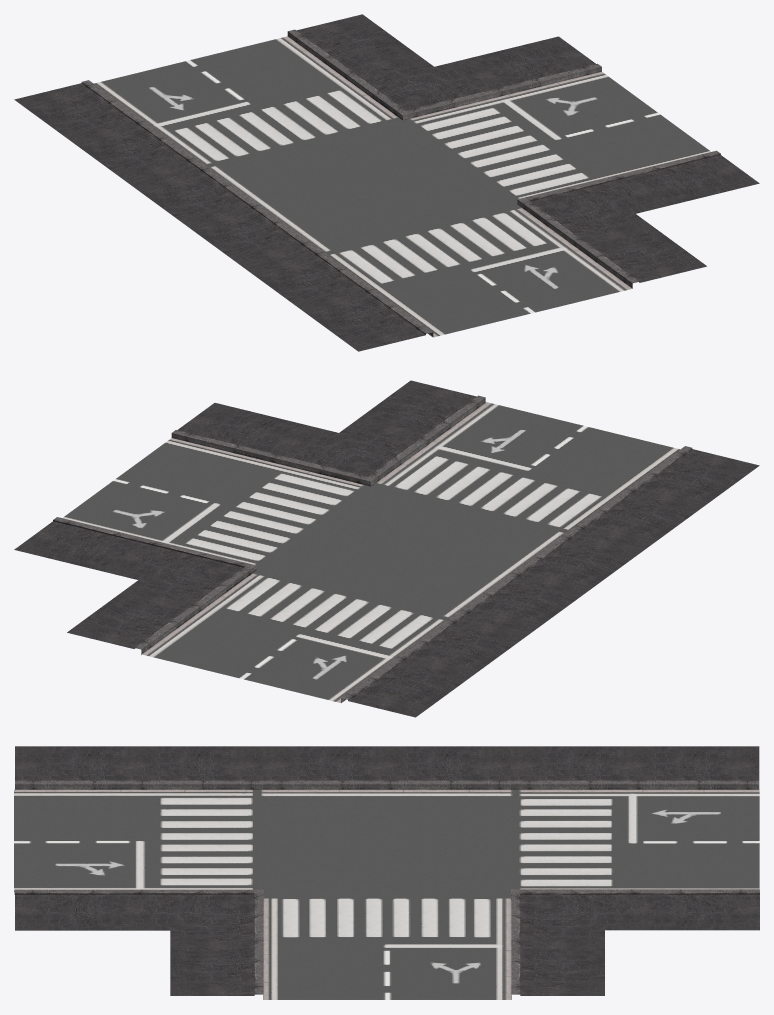
Rendered from 2 lines T intersection.FBX.
The picture shows the model from 3 angles, top to bottom: view 1: azimuth 30°, elevation 25°; view 2: azimuth 150°, elevation 25°; view 3: azimuth 270°, elevation 25°; orthographic projection. The views are drawn at different scales.
Parts seen in each view (by area): view 1: Object001; view 2: Object001; view 3: Object001.
Part boxes in pixels (<box>): Object001: <box>14,14,759,351</box>; Object001: <box>14,380,759,717</box>; Object001: <box>14,746,759,999</box>.
Size of the model in its own units: 28.48 by 0.3187 by 35.96.
